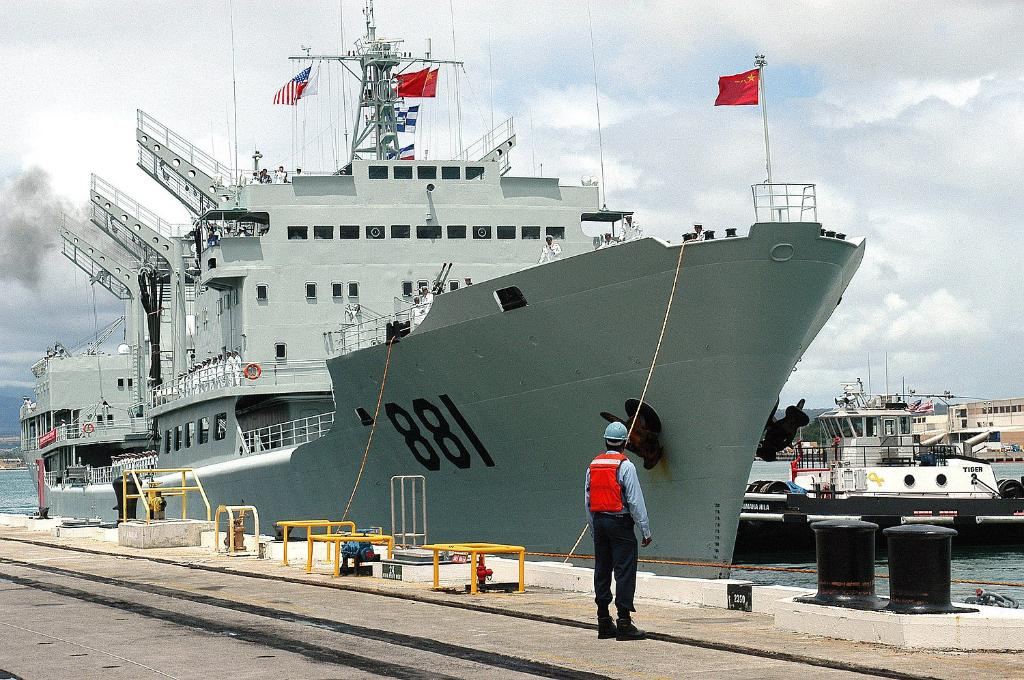Warship: (0, 0, 874, 590), (584, 411, 644, 640)
